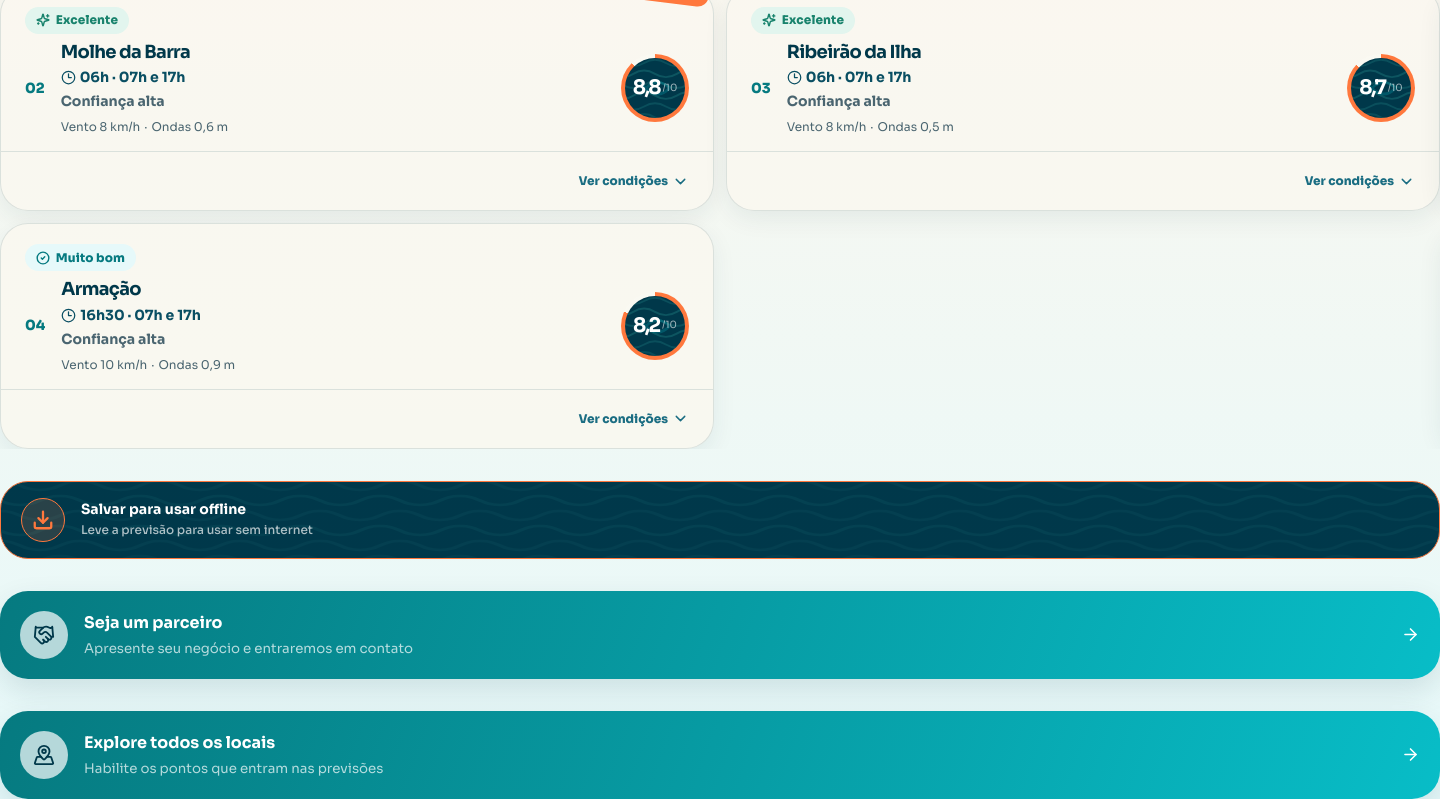
Scenario: HomePage › pede confirmação antes de salvar a previsão offline
(page scrolled)
Click the button "Salvar para usar offline": point(43, 520) [0,481,1439,559]
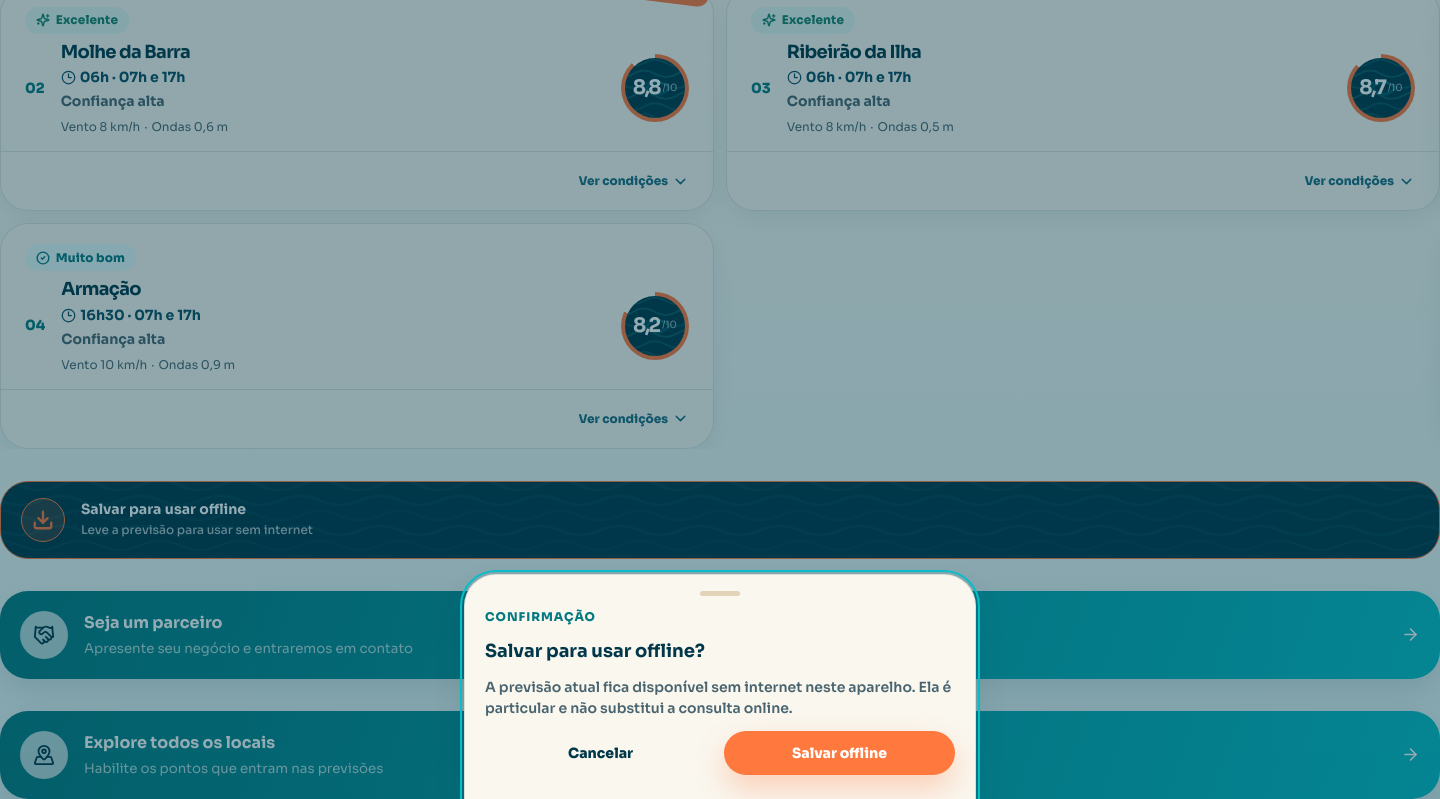
Click the button "Salvar offline": point(840, 753) [724,731,955,775]
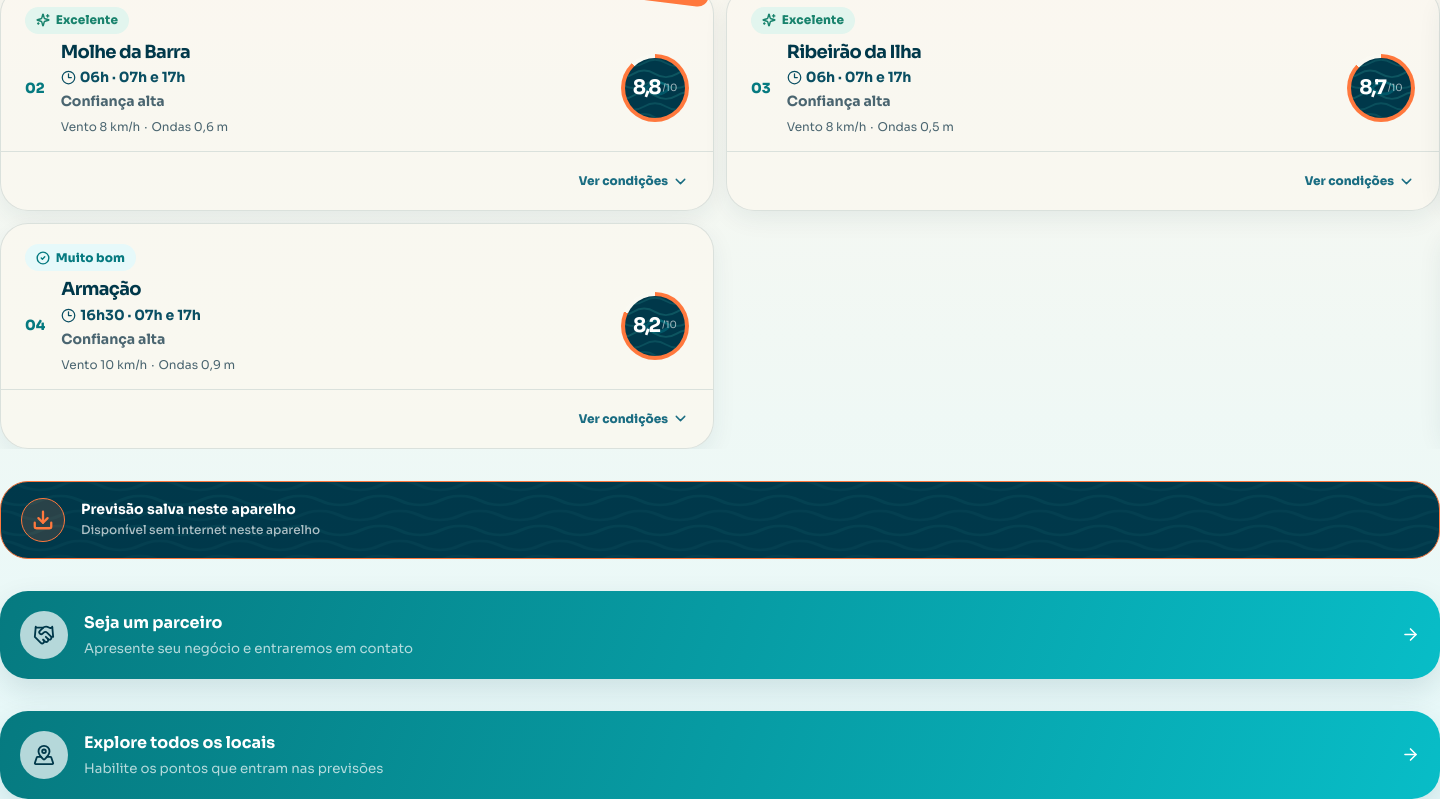
Now the button "Previsão salva neste aparelho" is shown, box [0,481,1439,559]
